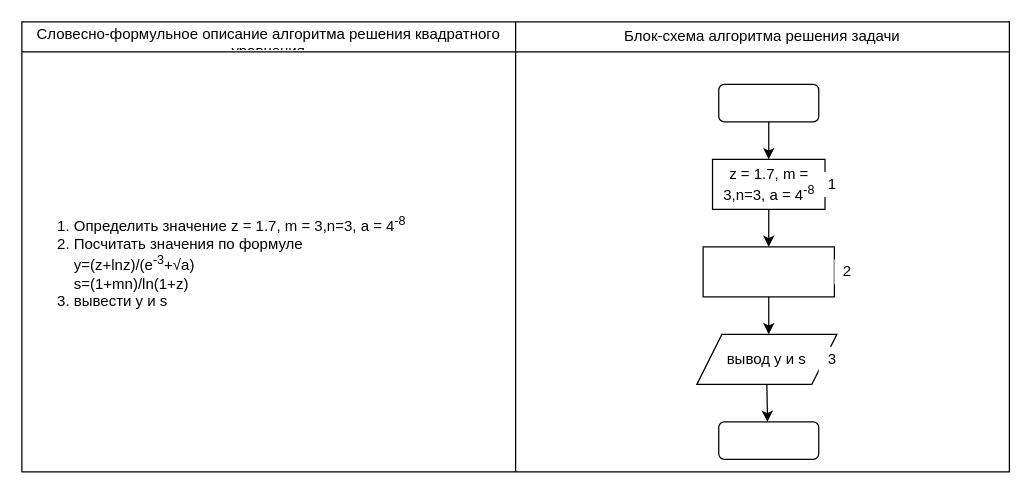
Image size: 1031x494. Some labels were removed from this diagram. The shapes that lost their labels are listed below. From the top down, each one's centre as x and y in pixels, then its label:
At point 768,102: "начало".
At point 768,271: "y=(z+lnz)/(e -3 +√a) s=(1+mn)/ln(1+z)".
At point 768,440: "конец".
